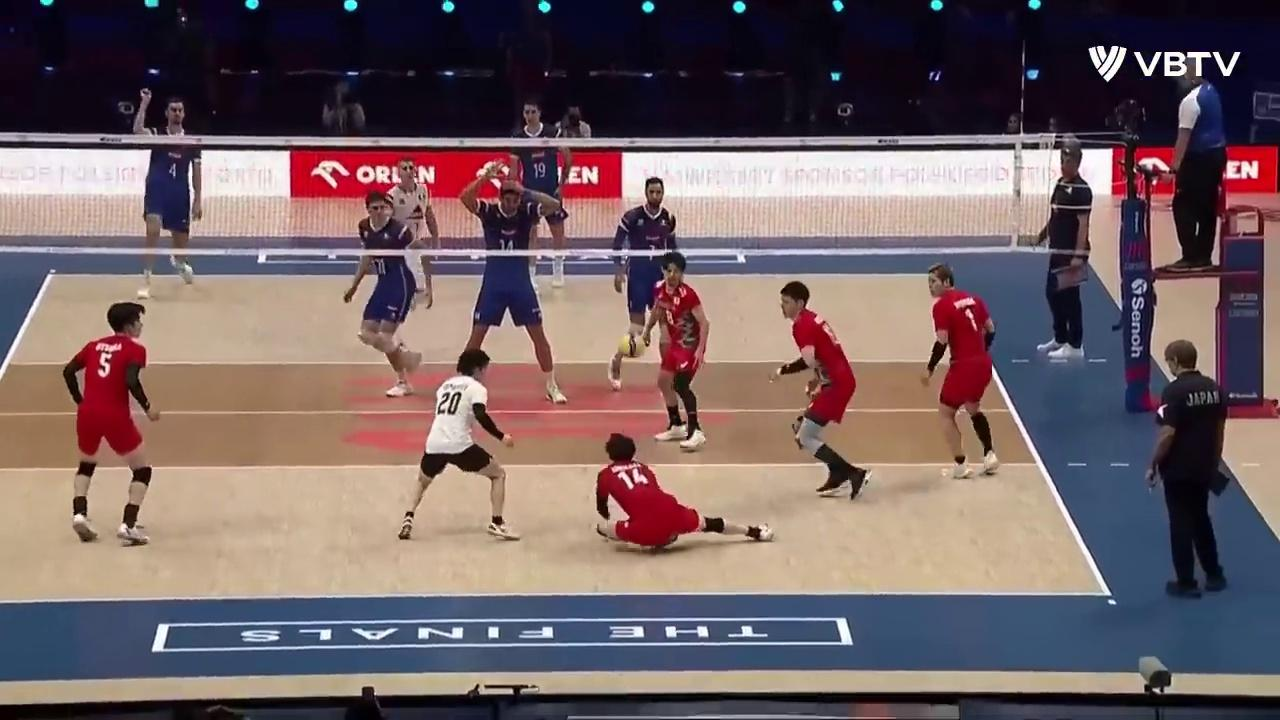ball: (621, 334, 647, 359)
